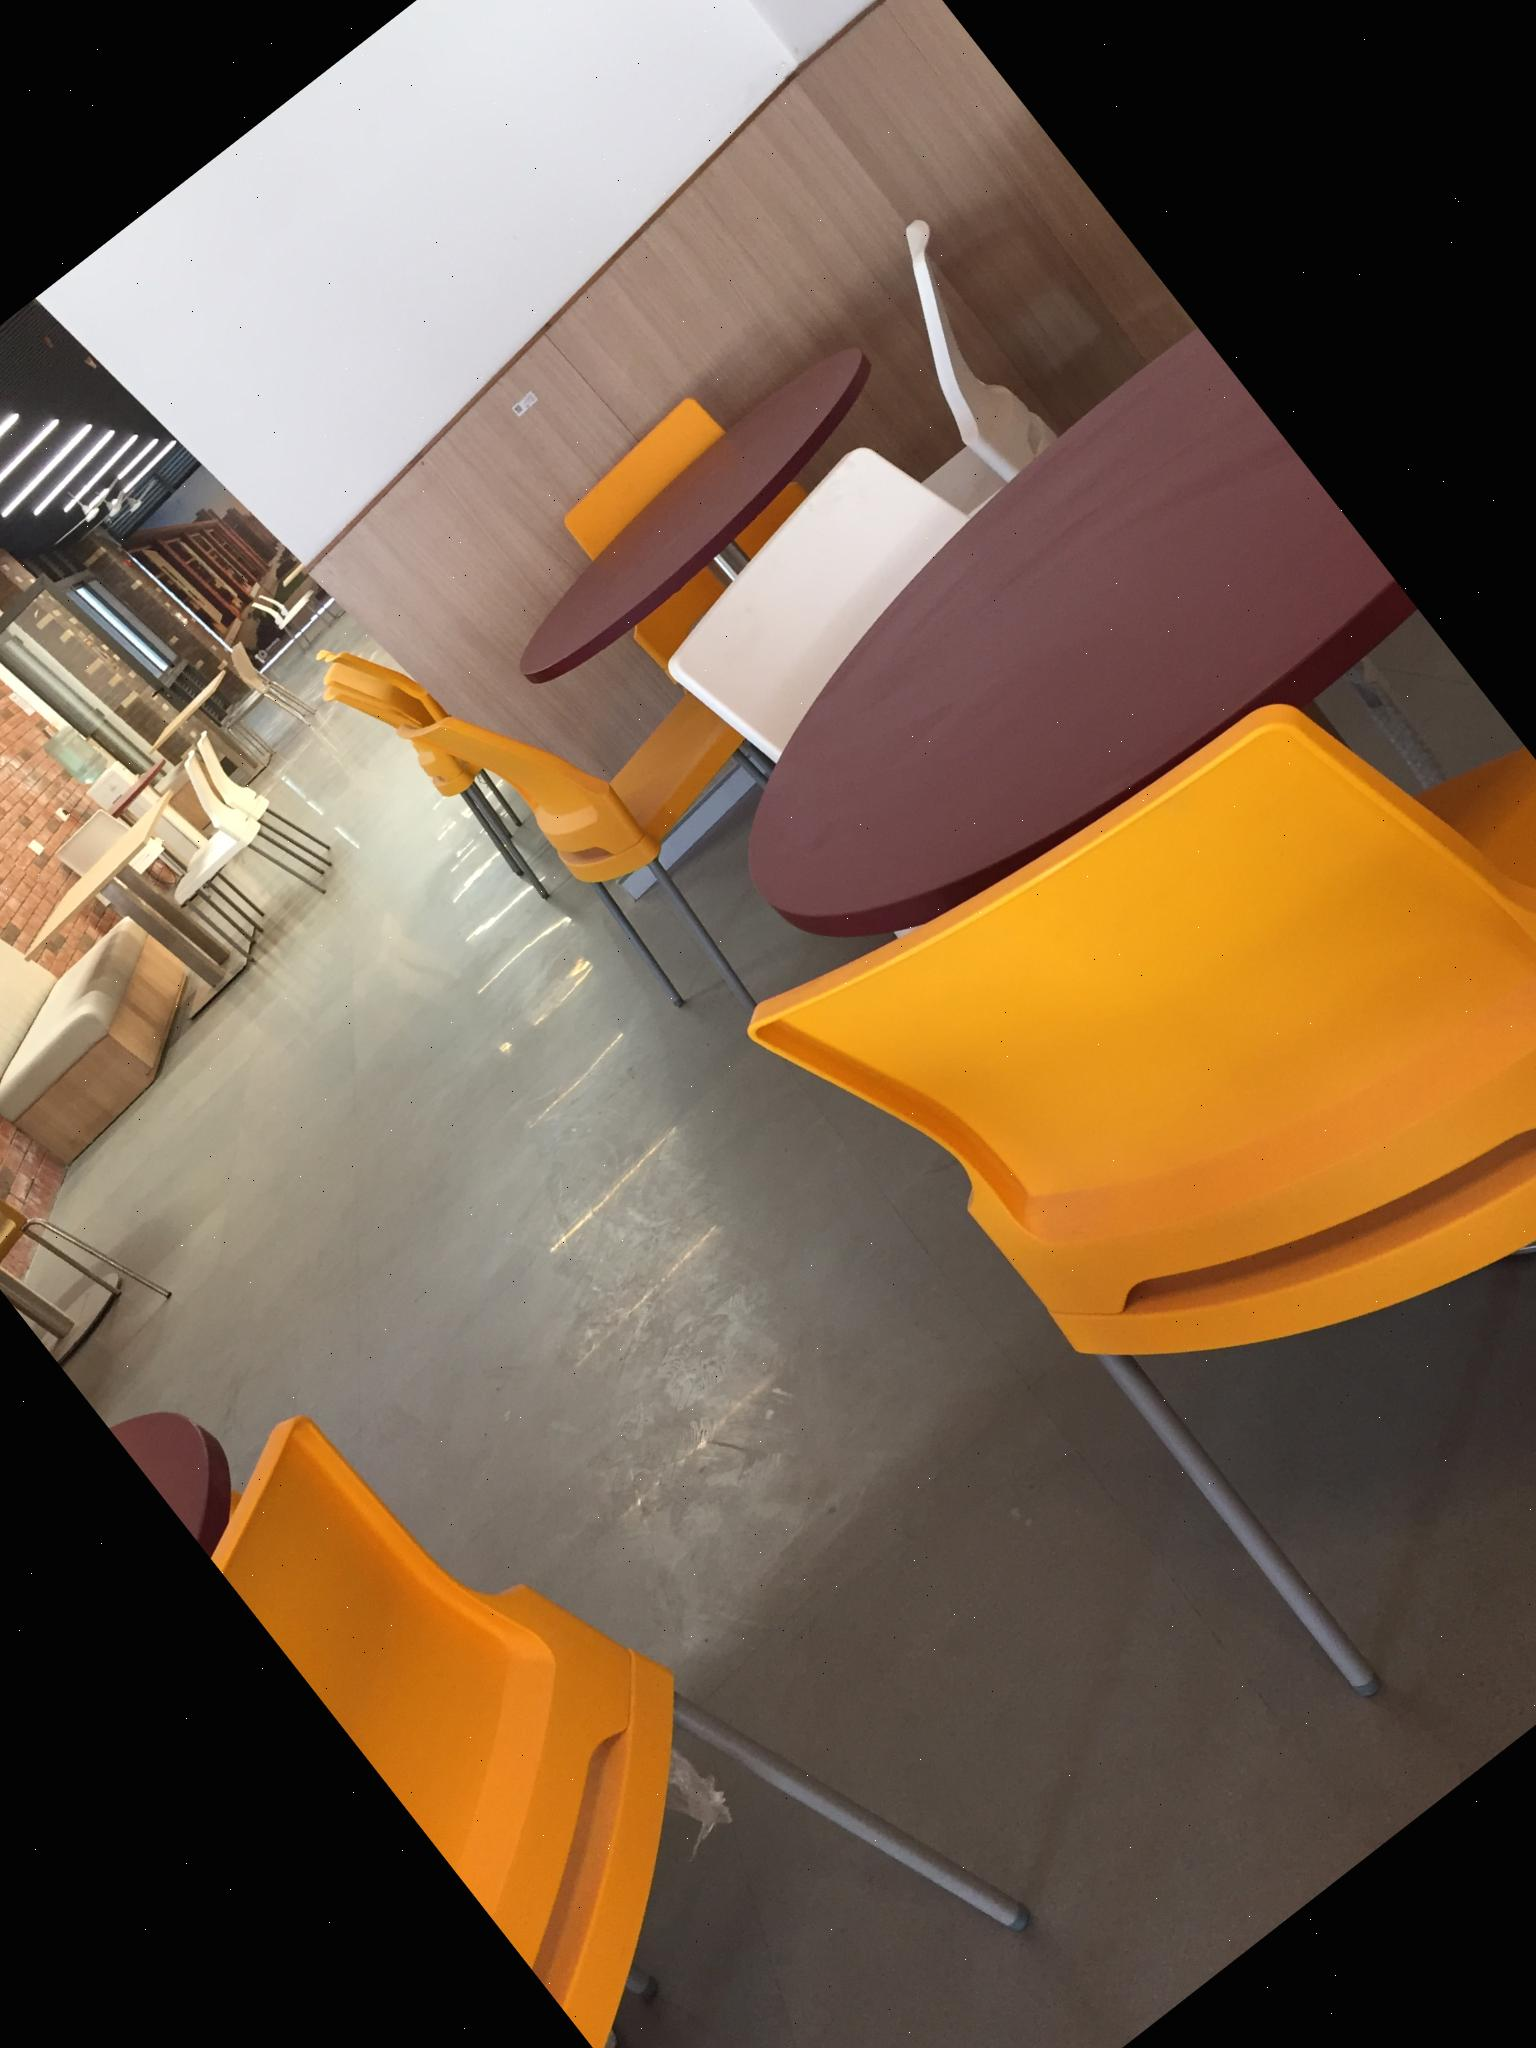chair: (736, 534, 1536, 1842), (169, 1242, 1037, 2048), (399, 566, 879, 1076), (629, 416, 1016, 780), (773, 184, 1136, 566), (536, 373, 842, 677), (0, 814, 239, 1205), (310, 622, 576, 929), (108, 710, 363, 984), (0, 1066, 174, 1377), (105, 732, 329, 971), (186, 631, 318, 768), (240, 556, 357, 677)
